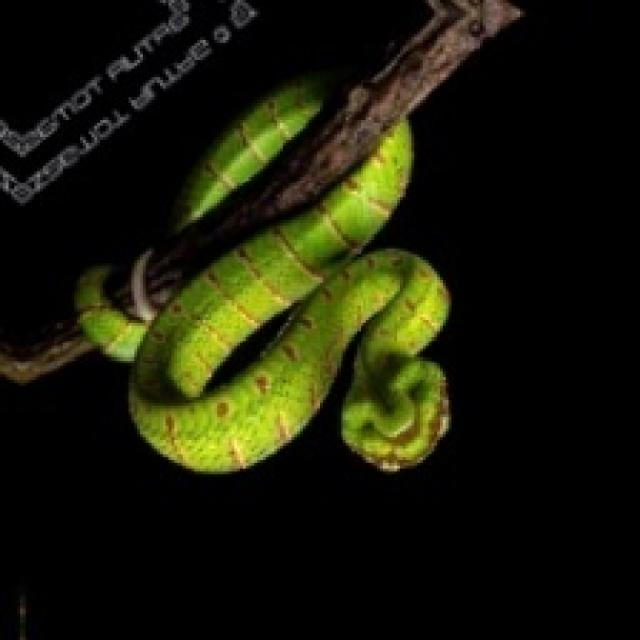north ph temple pitviper: (74, 120, 446, 469), (171, 74, 329, 229)
